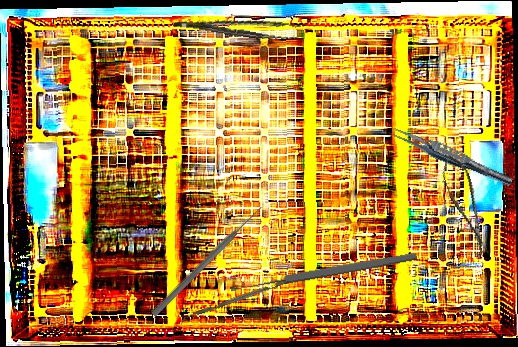Chopper: (178, 275, 302, 326)
Micro Scissor: (437, 151, 495, 260)
Pusher: (149, 203, 266, 319)
Surgical Spoon: (229, 250, 418, 295)
Tissue Forceps: (385, 122, 516, 190), (173, 5, 302, 47)
